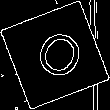O_SW: (25, 23, 85, 87)
